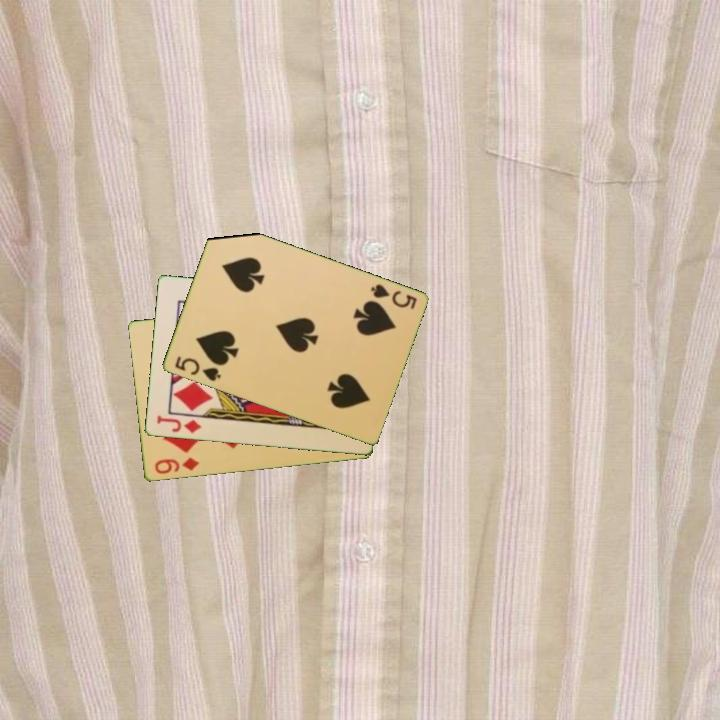5s: (367, 280, 419, 312), (171, 353, 224, 384)
9d: (151, 454, 202, 477)
Jd: (153, 412, 203, 436)
